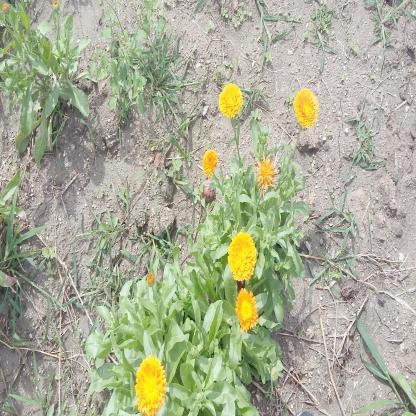marigold: (136, 356, 165, 415), (227, 232, 255, 280), (293, 89, 318, 127), (218, 82, 243, 118), (235, 287, 257, 326), (257, 156, 275, 191), (203, 149, 219, 175)
